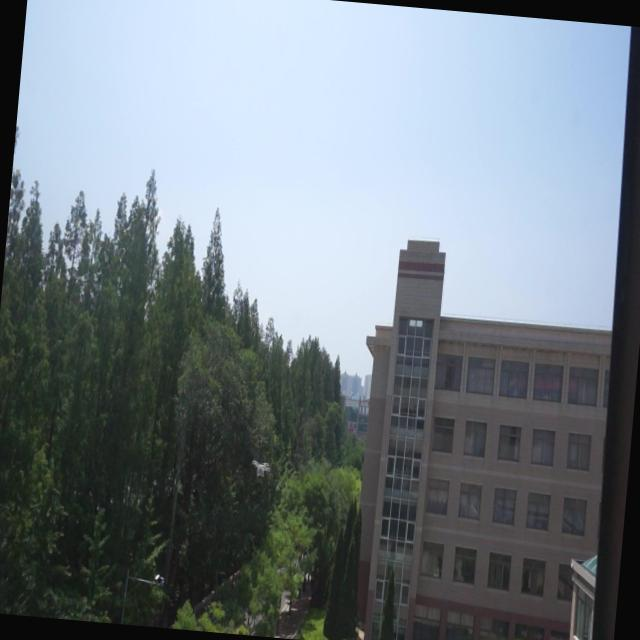drone: (248, 456, 276, 482)
